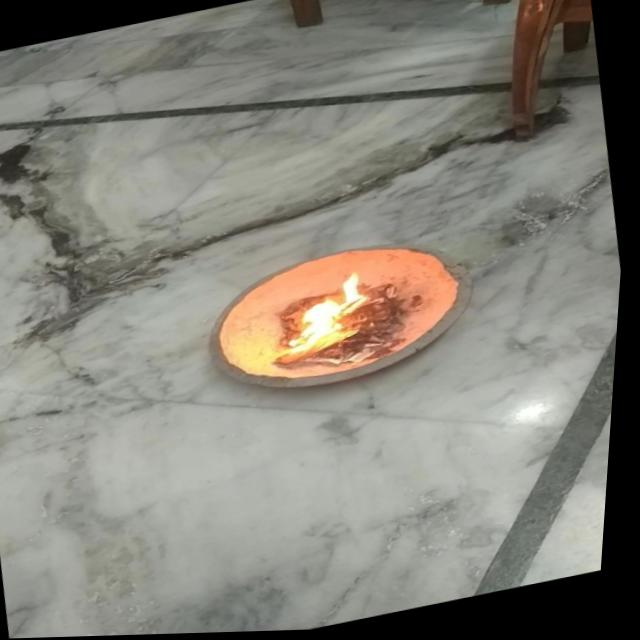fire: (265, 267, 396, 365)
